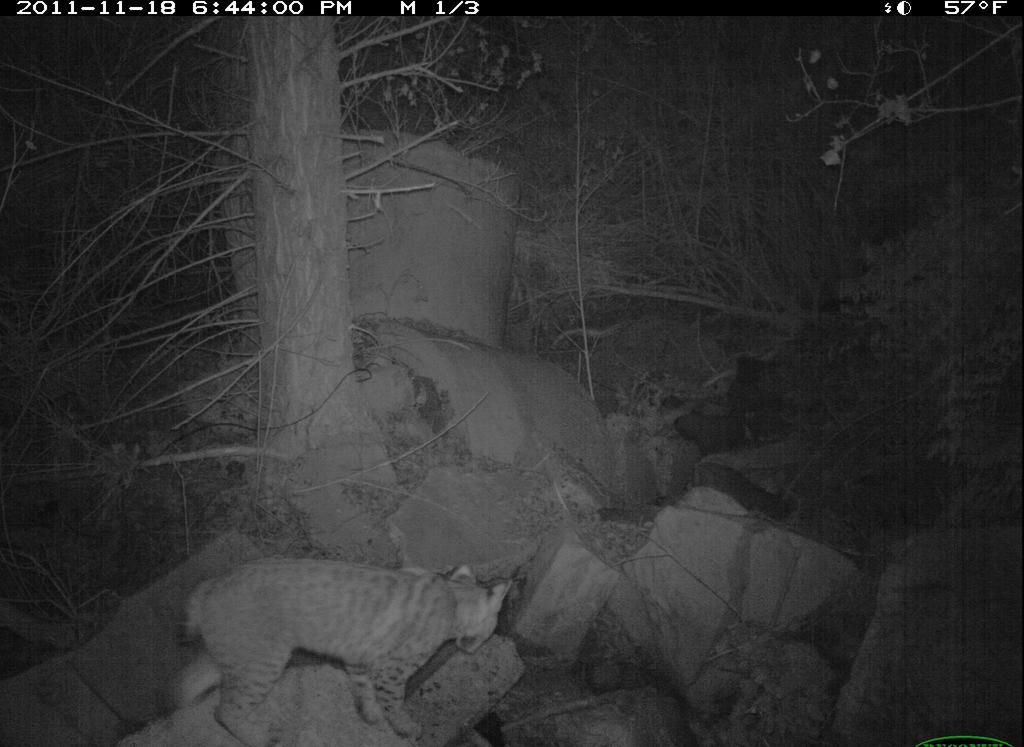bobcat: (173, 537, 520, 745)
